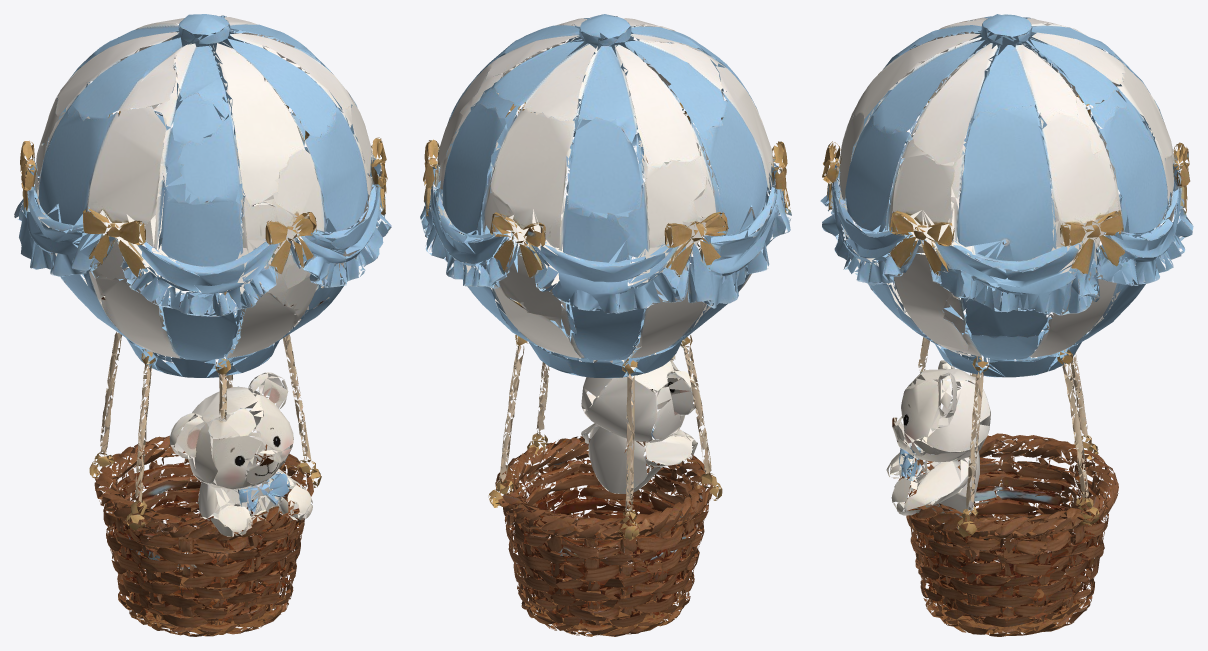
The model's file is teddy_balloon.glb.
3 renders of one model, left to right at view 1: azimuth 30°, elevation 25°; view 2: azimuth 150°, elevation 25°; view 3: azimuth 270°, elevation 25°, orthographic.
Visible parts, largest first — view 1: teddy_balloon; view 2: teddy_balloon; view 3: teddy_balloon.
Part boxes in pixels (box(x1,y1,x2,y2)): teddy_balloon: box(14, 14, 391, 636); teddy_balloon: box(420, 14, 791, 636); teddy_balloon: box(820, 14, 1193, 636).
Size of the model in its own units: 0.5645 by 1 by 0.5752.
1 material, 1 textured.
